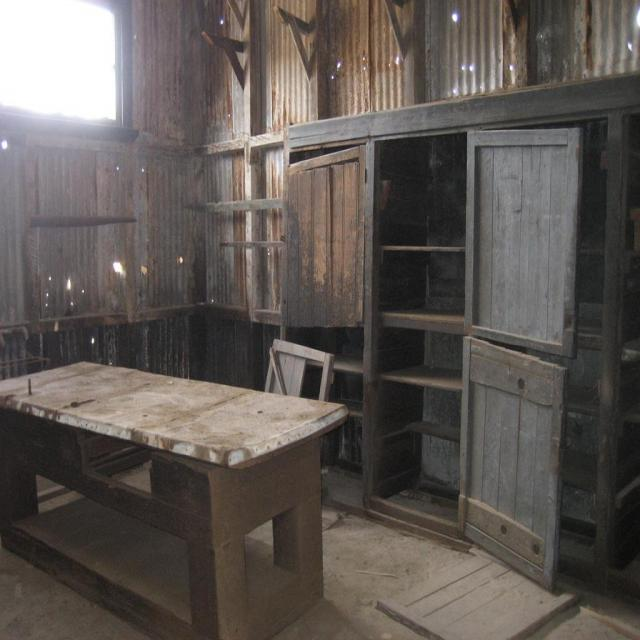table: (15, 346, 342, 622)
